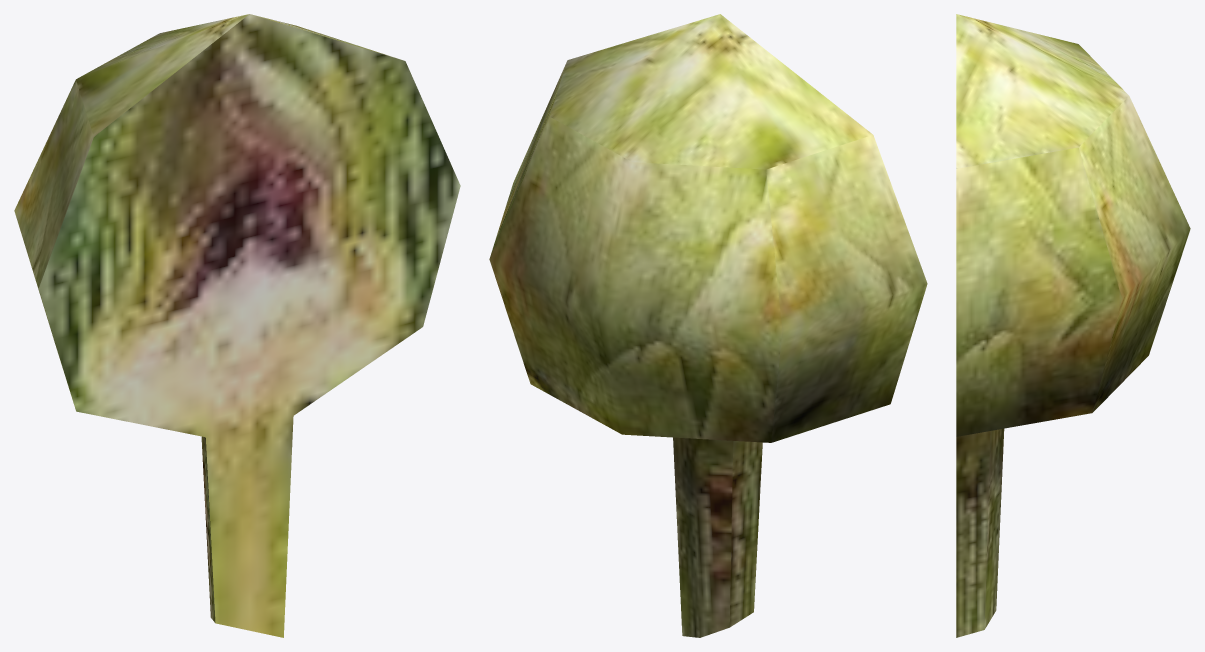
Rendered from Artichoke_01.glb.
3 renders of one model, left to right at view 1: azimuth 30°, elevation 25°; view 2: azimuth 150°, elevation 25°; view 3: azimuth 270°, elevation 25°, orthographic. The views are drawn at different scales.
Parts seen in each view (by area): view 1: Artichoke_01; view 2: Artichoke_01; view 3: Artichoke_01.
Boxes of the visible parts, x1,y1,x2,y2 form: Artichoke_01: [14, 14, 460, 637]; Artichoke_01: [489, 14, 927, 637]; Artichoke_01: [956, 14, 1190, 637].
Size of the model in its own units: 0.358 by 0.5126 by 0.179.
1 material, 1 textured.
